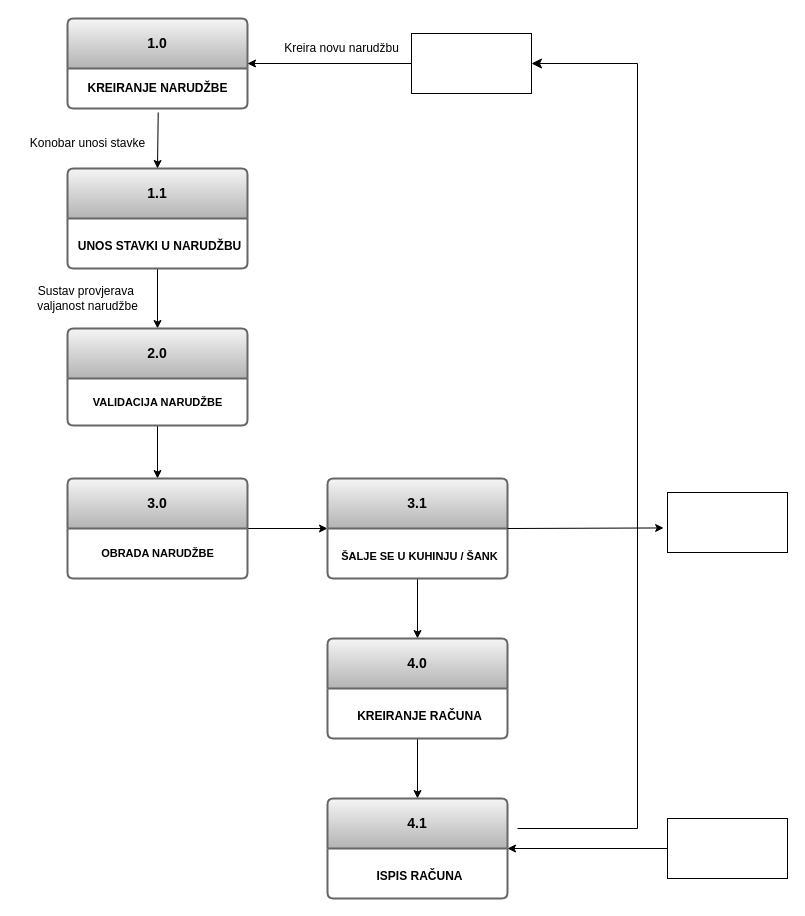
The diagram is 805 pixels wide and 916 high, and some of its shapes have lost their labels. The centre of each missing label's shape, as x and y in pixels:
"BLAGAJNA" goes at (727,848).
"KONOBAR" goes at (471,63).
"ŠANK / KUHINJA" goes at (727,522).
